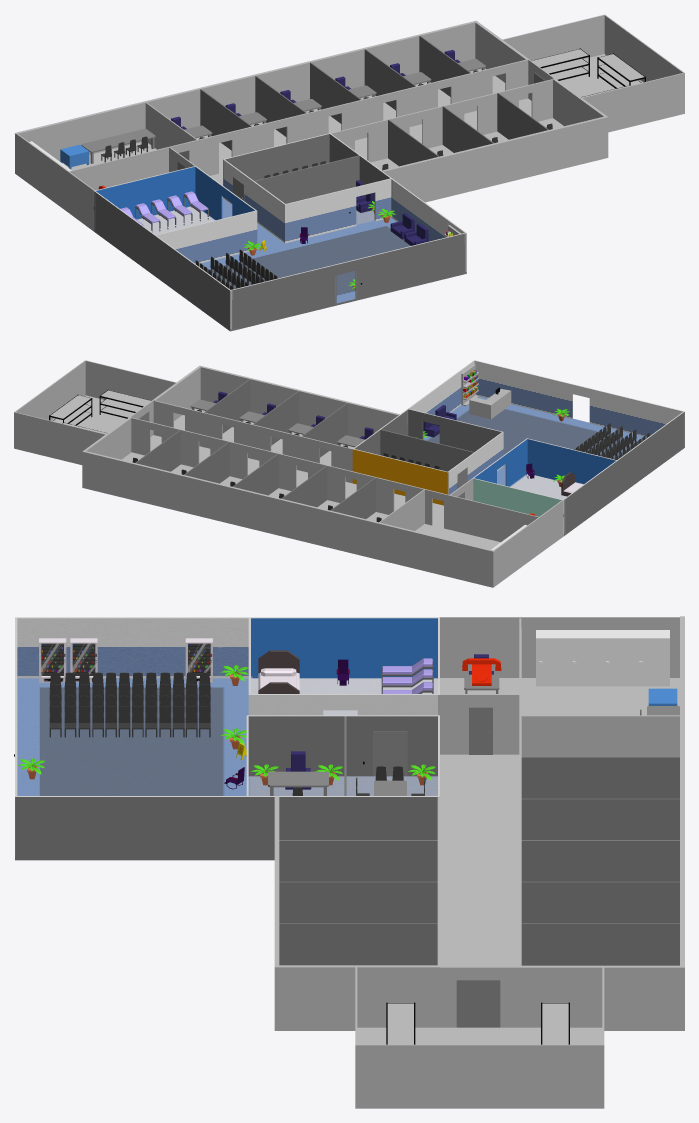
Rendered from HospitalV3.fbx.
3 views of the same model, one above another, from view 1: azimuth 30°, elevation 25°; view 2: azimuth 150°, elevation 25°; view 3: azimuth 270°, elevation 25° (orthographic). The views are drawn at different scales.
Parts seen in each view (by area): view 1: SueloExtension, ParedFrontal, Suelo, ParedIzquierda, ParedTrasera, ParedDespacho, ParedCamillas, ParedDerecha, ParedDivision, ParedDespachoJugador, ParedReuniones, ParedCamillasEntrada (+23 smaller); view 2: SueloExtension, ParedFrontal, Suelo, ParedIzquierda, ParedTrasera, ParedDespachoJugador, ParedCamillas, ParedDivision, ParedDerecha, ParedDespacho, ParedReuniones, ParedCamillasEntrada (+24 smaller); view 3: SueloExtension, Suelo, ParedDerecha, ParedIzquierda, ParedReuniones, ParedNevera.006, ParedNevera.007, ParedNevera.008, ParedNevera.005, ParedNevera, ParedNevera.001, ParedNevera.004 (+20 smaller).
Part boxes in pixels (bbox=[...]): SueloExtension: bbox=[14, 14, 684, 230]; ParedFrontal: bbox=[231, 233, 465, 328]; Suelo: bbox=[93, 198, 466, 331]; ParedIzquierda: bbox=[94, 191, 231, 329]; ParedTrasera: bbox=[93, 133, 330, 229]; ParedDespacho: bbox=[284, 178, 391, 243]; ParedCamillas: bbox=[156, 210, 256, 263]; ParedDerecha: bbox=[329, 133, 466, 271]; ParedDivision: bbox=[254, 155, 359, 203]; ParedDespachoJugador: bbox=[69, 146, 169, 190]; ParedReuniones: bbox=[223, 159, 284, 242]; ParedCamillasEntrada: bbox=[195, 166, 257, 243]; SueloExtension: bbox=[14, 360, 563, 587]; ParedFrontal: bbox=[474, 360, 683, 436]; Suelo: bbox=[423, 396, 684, 536]; ParedIzquierda: bbox=[563, 411, 684, 533]; ParedTrasera: bbox=[352, 448, 563, 534]; ParedDespachoJugador: bbox=[449, 495, 538, 542]; ParedCamillas: bbox=[527, 438, 616, 484]; ParedDivision: bbox=[380, 429, 473, 471]; ParedDerecha: bbox=[353, 360, 474, 454]; ParedDespacho: bbox=[408, 409, 503, 466]; ParedReuniones: bbox=[448, 432, 502, 494]; ParedCamillasEntrada: bbox=[473, 438, 527, 486]; SueloExtension: bbox=[274, 616, 684, 1108]; Suelo: bbox=[15, 678, 437, 860]; ParedDerecha: bbox=[15, 796, 437, 856]; ParedIzquierda: bbox=[15, 617, 437, 678]; ParedReuniones: bbox=[248, 715, 437, 776]; ParedNevera.006: bbox=[521, 923, 679, 965]; ParedNevera.007: bbox=[279, 923, 437, 965]; ParedNevera.008: bbox=[279, 881, 437, 923]; ParedNevera.005: bbox=[521, 881, 679, 923]; ParedNevera: bbox=[521, 715, 679, 756]; ParedNevera.001: bbox=[521, 757, 679, 798]; ParedNevera.004: bbox=[521, 840, 679, 881].
Bounding box in the file's own units: 10320 × 715 × 6823.
